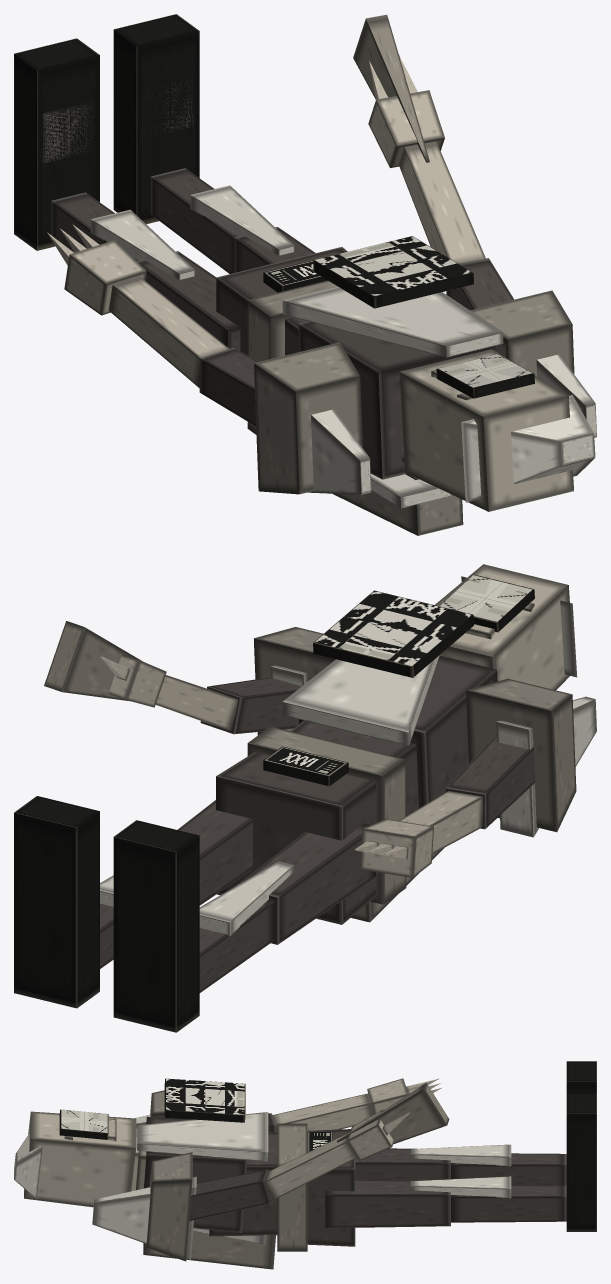
Rendered from velaroth_neutral.obj.
The picture shows the model from 3 angles, top to bottom: view 1: azimuth 30°, elevation 25°; view 2: azimuth 150°, elevation 25°; view 3: azimuth 270°, elevation 25°; orthographic projection. The views are drawn at different scales.
Parts seen in each view (by area): view 1: velaroth_neutral; view 2: velaroth_neutral; view 3: velaroth_neutral.
Part boxes in pixels (x1,y1,x2,y2): velaroth_neutral: [14, 14, 596, 535]; velaroth_neutral: [14, 564, 596, 1032]; velaroth_neutral: [14, 1061, 596, 1269].
Size of the model in its own units: 0.4486 by 0.4223 by 1.
Materials: 1 (1 with a texture image).
